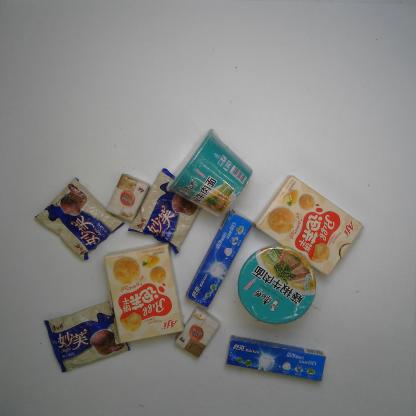Dessert: (252, 174, 366, 276), (102, 242, 184, 346), (32, 175, 125, 260), (126, 166, 204, 254), (43, 299, 131, 373)
Instant Noodles: (165, 126, 255, 219), (234, 245, 318, 326)
Personal Hygiene: (183, 209, 254, 310), (224, 335, 327, 383)
Tissue: (174, 305, 221, 358), (106, 172, 150, 224)
